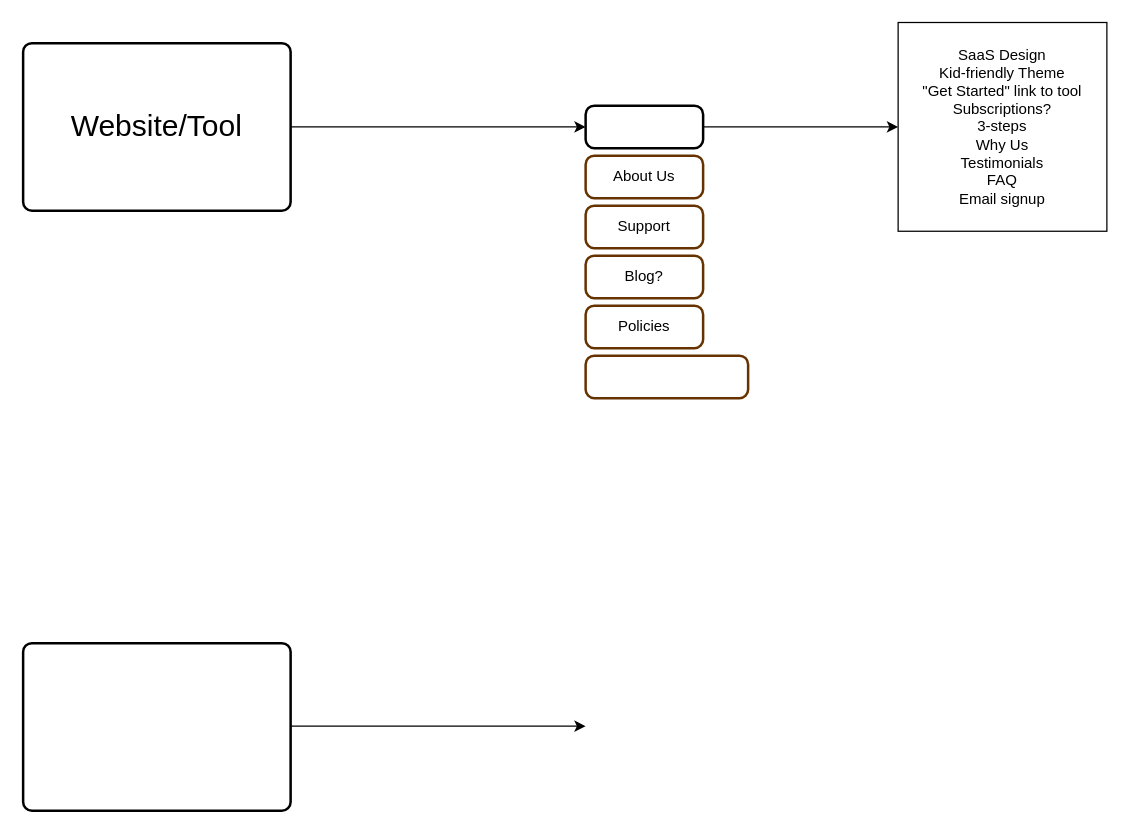
Image size: 1129x833. Some labels were removed from this diagram. Each missing label, with the box of its shape:
Admin: (21, 641, 291, 811)
Home Page: (584, 104, 704, 149)
Terms & Conditions: (584, 354, 749, 399)
